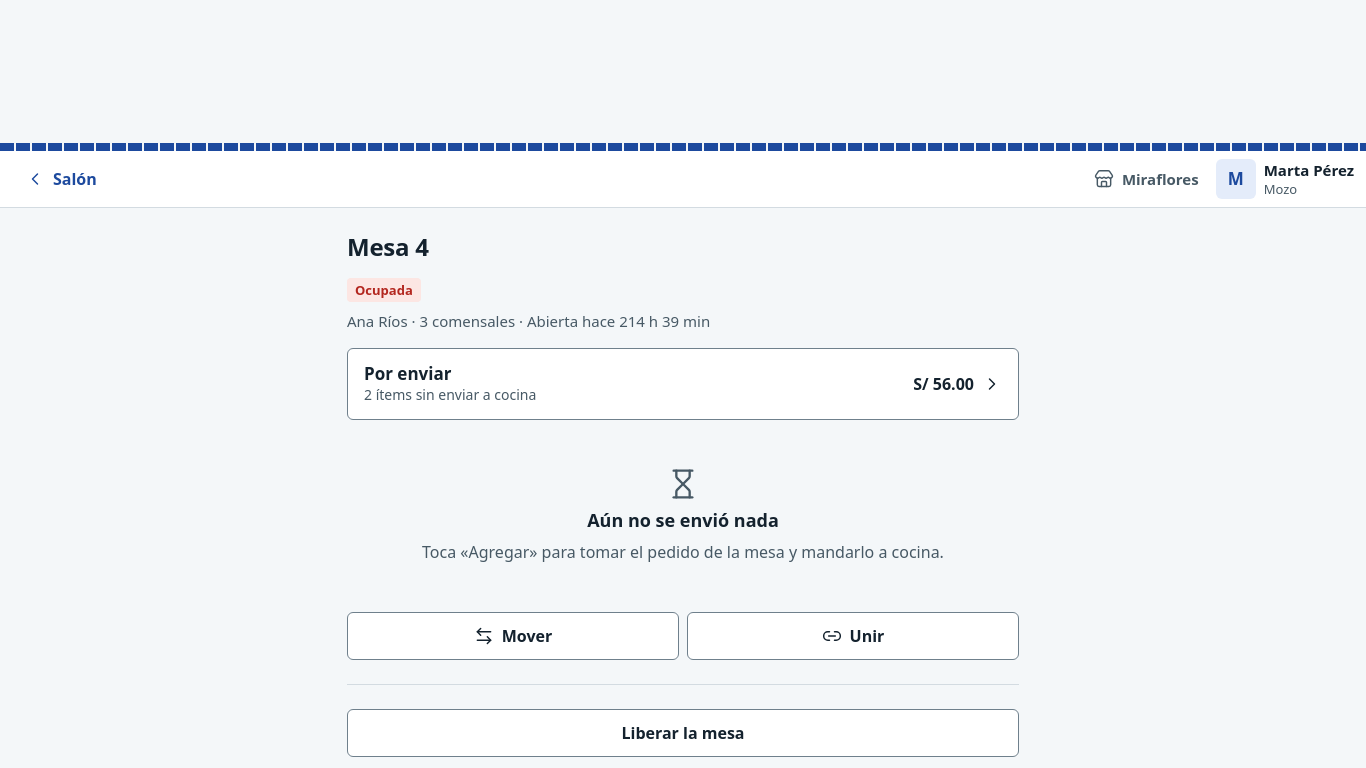
Test: La cuenta y el borrador (criterio 92) › lo que falta enviar se ve con su total y lleva de vuelta a «Por enviar»
(page scrolled)
Expected: the text "2 ítems sin enviar a cocina" is shown, [364,385,536,404]
Expected: the text "S/ 56.00" is shown, [913,372,974,396]
Click the link "Por enviar 2 ítems sin enviar a cocina S/ 56.00" at (408, 374), box [347,348,1019,420]
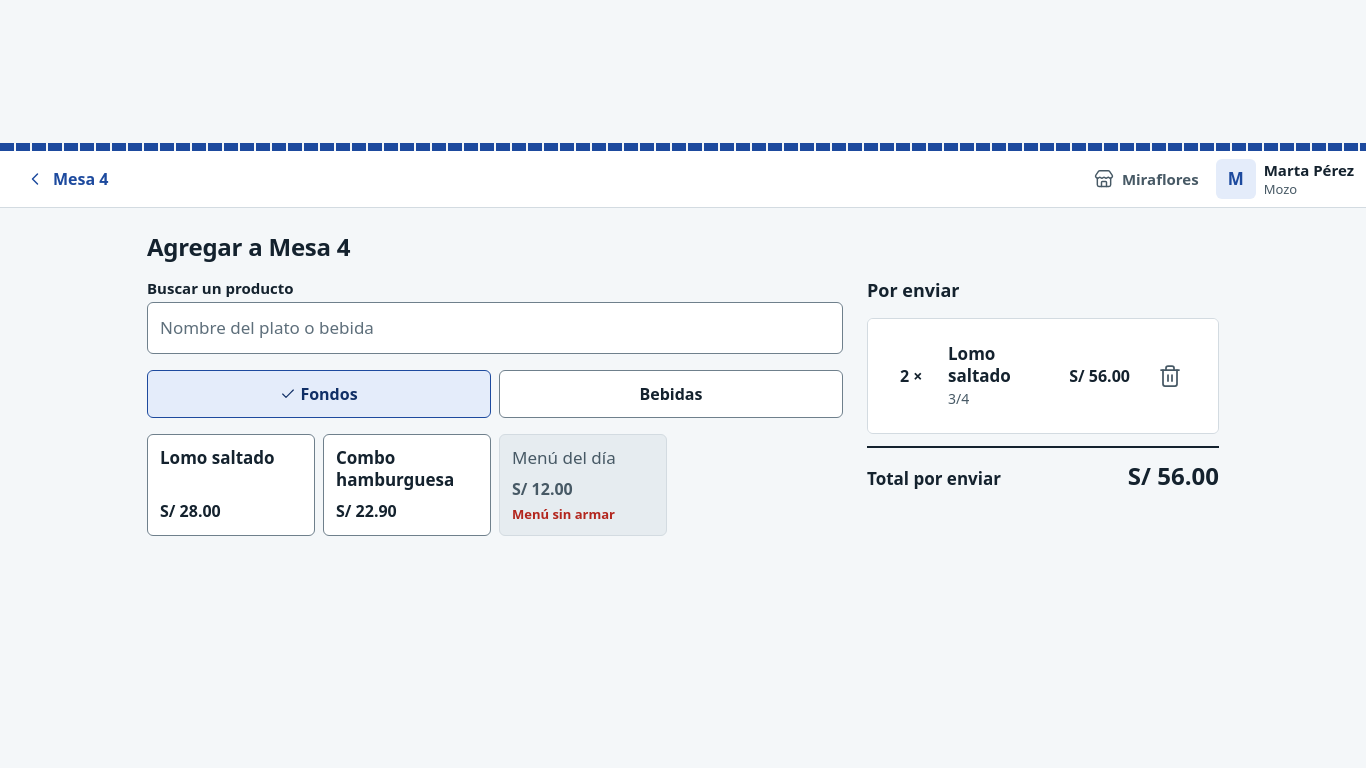
Now the heading "Agregar a Mesa 4" is shown, box [147,230,350,263]
Now the button with aria-label "Editar 2 × Lomo saltado" is shown, box [884,331,1146,421]
